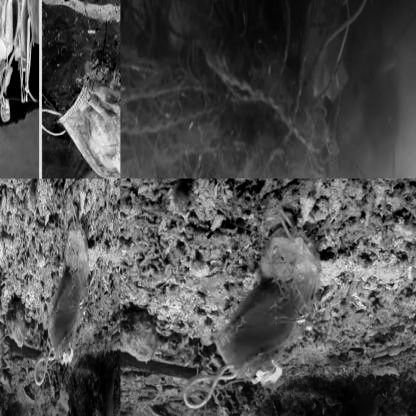Mask: (182, 207, 322, 409), (292, 0, 378, 132), (48, 23, 120, 178), (34, 200, 90, 387)
